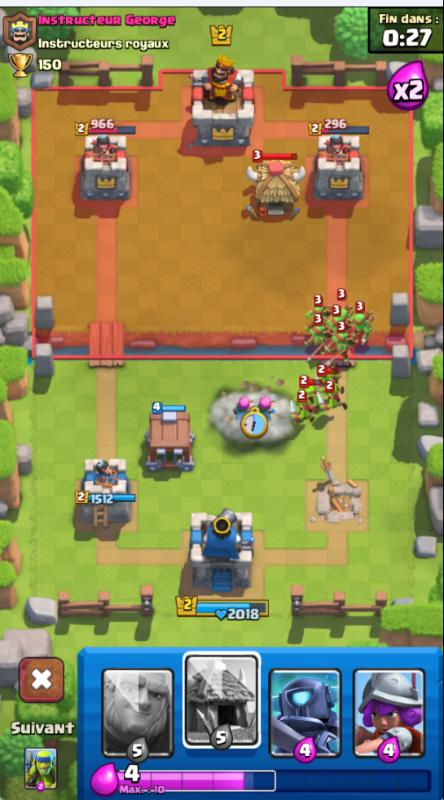archere: (258, 390, 278, 433), (234, 391, 253, 430)
gobelin: (290, 390, 318, 428), (296, 373, 322, 409), (321, 383, 345, 415), (322, 367, 341, 390)
gobelin_lances: (349, 305, 376, 345), (301, 321, 328, 354), (330, 331, 355, 366), (304, 297, 330, 328), (331, 300, 350, 334)
